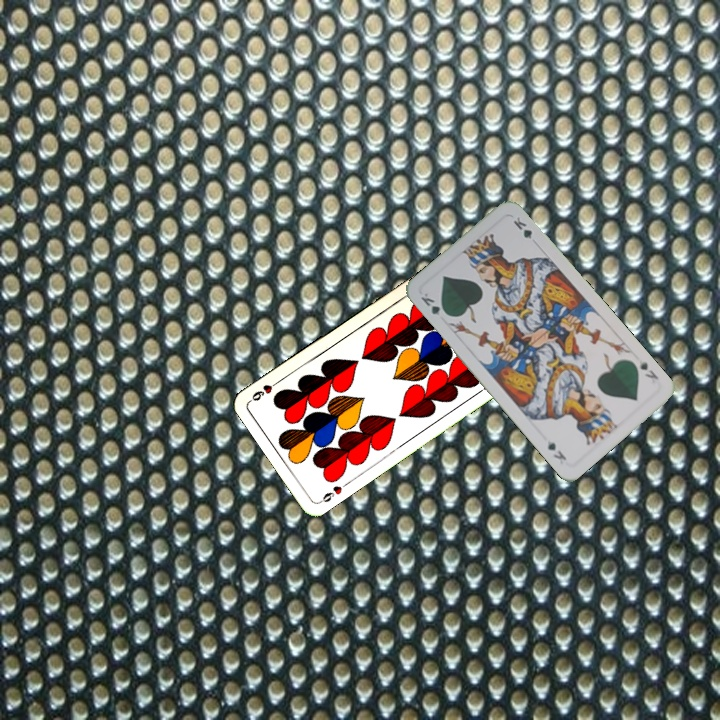GK: (417, 289, 451, 320), (634, 356, 661, 382)
H9: (315, 481, 345, 505)
